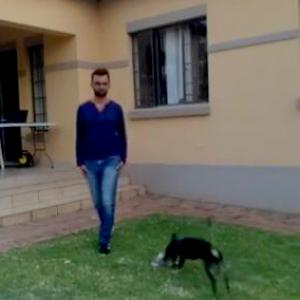follow: (79, 70, 135, 242)
